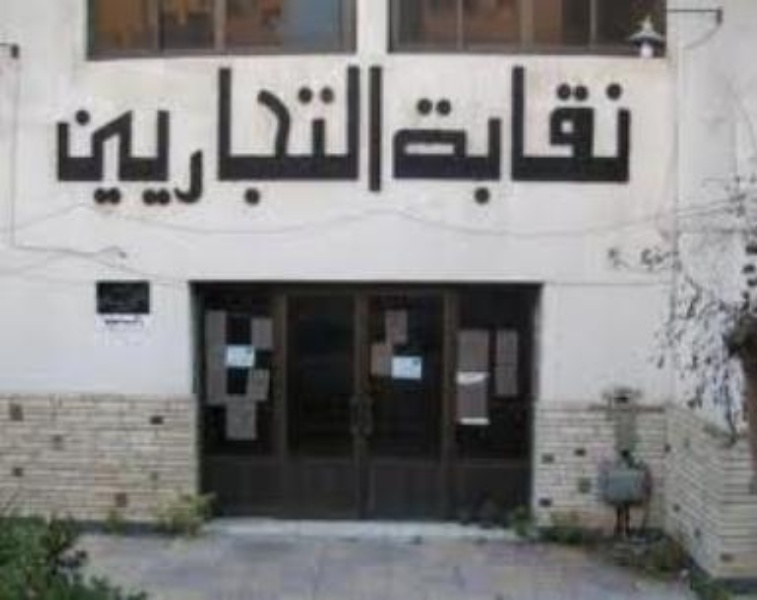text: (65, 61, 80, 209), (81, 61, 96, 209), (97, 61, 112, 209), (113, 61, 128, 209), (129, 61, 144, 209), (145, 61, 160, 209), (161, 61, 176, 209), (177, 61, 192, 209), (193, 61, 208, 209), (209, 61, 224, 209), (225, 61, 240, 209), (241, 61, 256, 209), (257, 61, 272, 209), (273, 61, 288, 209), (289, 61, 304, 209), (305, 61, 320, 209), (321, 61, 336, 209), (337, 61, 352, 209), (353, 61, 368, 209), (369, 61, 384, 209), (401, 63, 416, 205), (417, 63, 432, 205), (433, 63, 448, 205), (449, 63, 464, 205), (465, 63, 480, 205), (481, 63, 496, 205), (497, 63, 512, 205), (513, 63, 528, 205), (529, 63, 544, 205), (545, 63, 560, 205), (561, 63, 576, 205), (577, 63, 592, 205), (593, 63, 608, 205), (609, 63, 624, 205), (625, 63, 636, 205), (392, 63, 400, 205), (58, 61, 64, 209), (385, 61, 390, 209), (97, 286, 112, 313), (113, 286, 128, 313), (129, 286, 144, 313), (145, 286, 150, 313), (95, 286, 96, 313)
